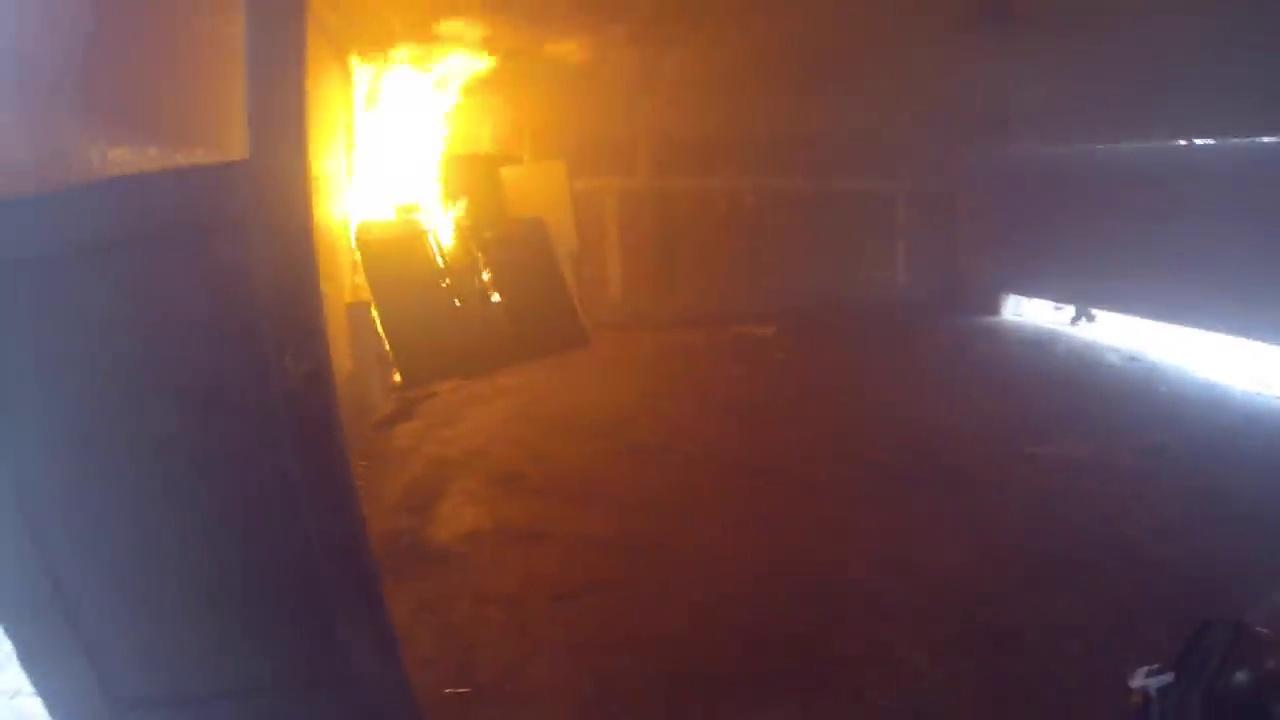Fire: (342, 13, 496, 280)
